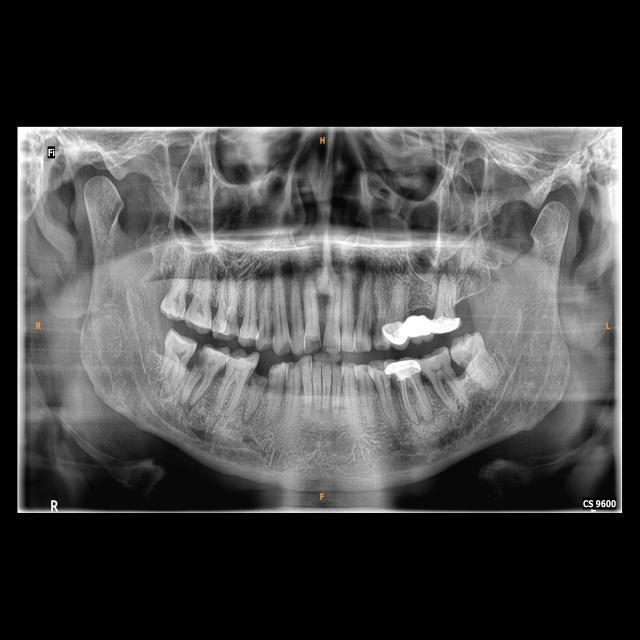dentin-curugu: (249, 371, 270, 393), (194, 351, 211, 372), (305, 336, 322, 351), (372, 322, 384, 341), (365, 327, 374, 339)
kanal-tedavisi: (398, 379, 425, 416)
kaplama: (382, 319, 406, 347), (389, 360, 421, 380), (434, 311, 460, 334)
kopru: (405, 308, 436, 345)
